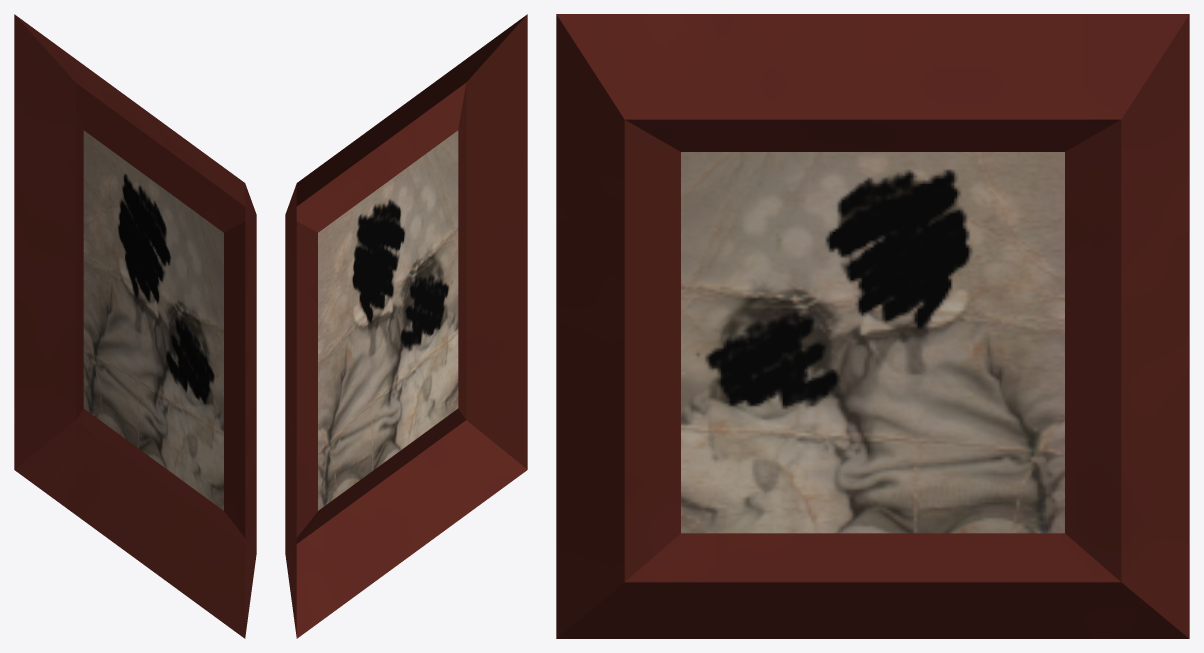
File: Cuadro 2.fbx
The picture shows the model from 3 angles, left to right: view 1: azimuth 30°, elevation 25°; view 2: azimuth 150°, elevation 25°; view 3: azimuth 270°, elevation 25°; orthographic projection. The views are drawn at different scales.
Visible parts, largest first — view 1: Cuadro.004; view 2: Cuadro.004; view 3: Cuadro.004.
Part boxes in pixels (bbox=[...]): Cuadro.004: bbox=[14, 14, 256, 638]; Cuadro.004: bbox=[285, 14, 527, 638]; Cuadro.004: bbox=[556, 14, 1189, 638].
Size of the model in its own units: 4.05 by 48.32 by 44.38.
